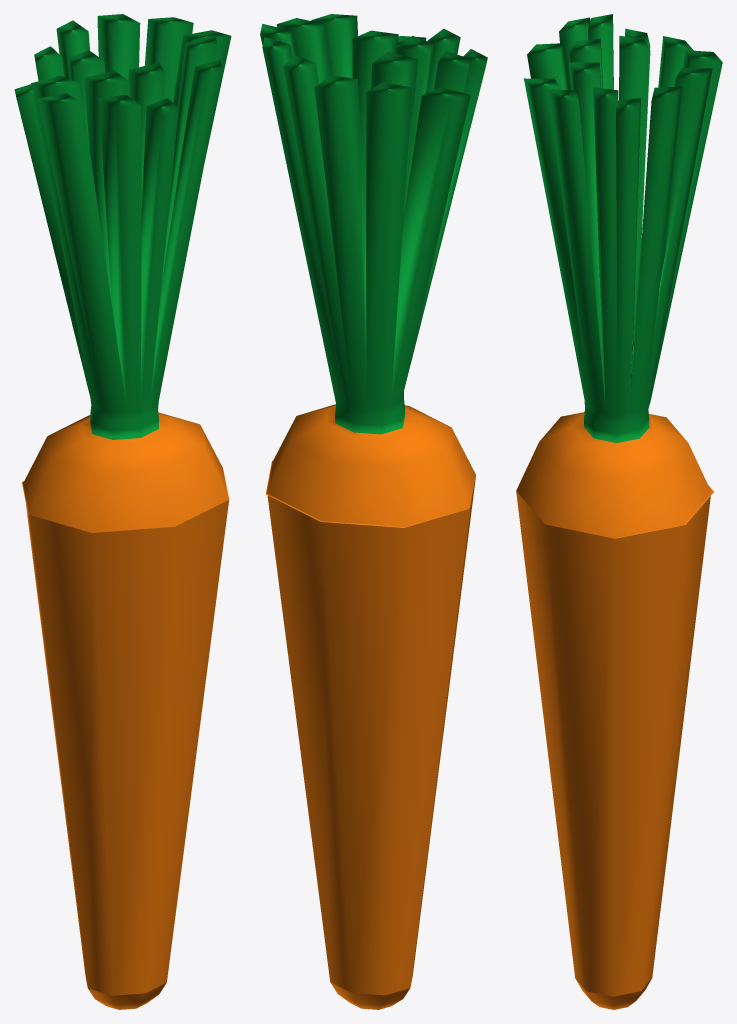
The model's file is Carrot (Ready).fbx.
The picture shows the model from 3 angles, left to right: view 1: azimuth 30°, elevation 25°; view 2: azimuth 150°, elevation 25°; view 3: azimuth 270°, elevation 25°; orthographic projection.
Parts seen in each view (by area): view 1: Carrot_Sprout; view 2: Carrot_Sprout; view 3: Carrot_Sprout.
Part boxes in pixels (bbox=[...]): Carrot_Sprout: bbox=[14, 14, 231, 1009]; Carrot_Sprout: bbox=[260, 14, 487, 1009]; Carrot_Sprout: bbox=[516, 14, 722, 1009].
Size of the model in its own units: 8.56 by 36.74 by 7.3.
